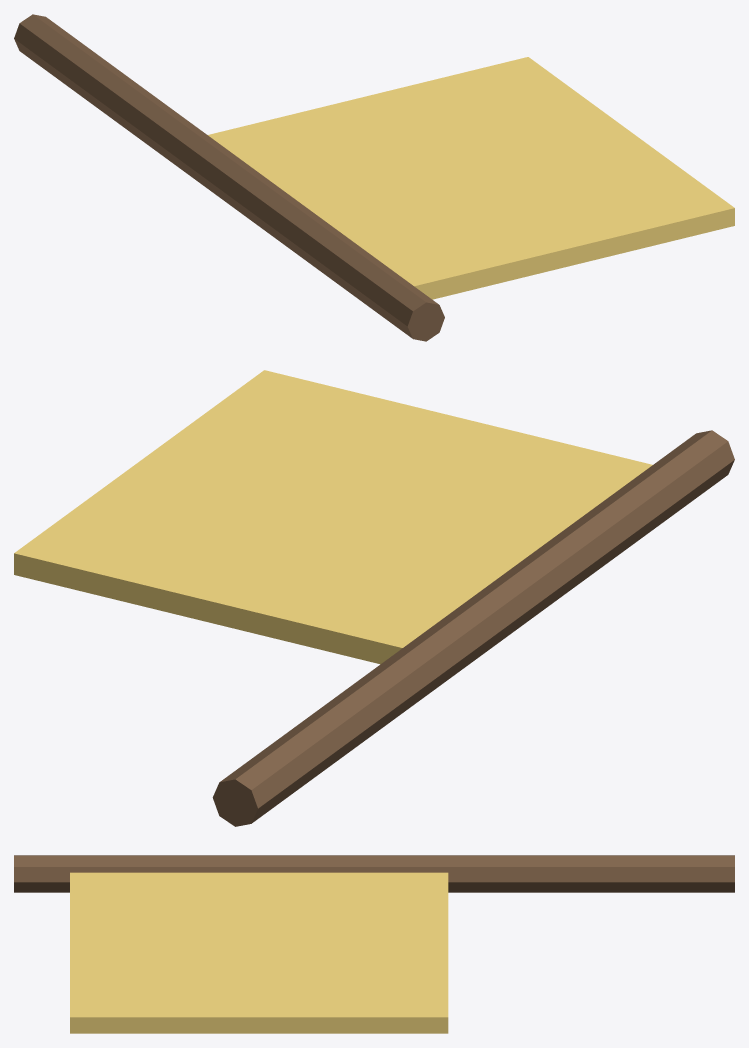
The model's file is infinite_archives_banner.glb.
3 renders of one model, top to bottom at view 1: azimuth 30°, elevation 25°; view 2: azimuth 150°, elevation 25°; view 3: azimuth 270°, elevation 25°, orthographic. The views are drawn at different scales.
Visible parts, largest first — view 1: banner_cloth, banner_pole; view 2: banner_cloth, banner_pole; view 3: banner_cloth, banner_pole.
Boxes of the visible parts, x1,y1,x2,y2 form: banner_cloth: (208,57,734,299); banner_pole: (14,14,444,341); banner_cloth: (14,370,652,664); banner_pole: (212,430,734,826); banner_cloth: (70,872,448,1033); banner_pole: (14,855,734,892).
Bounding box in the file's own units: 1.05 × 0.1125 × 2.
